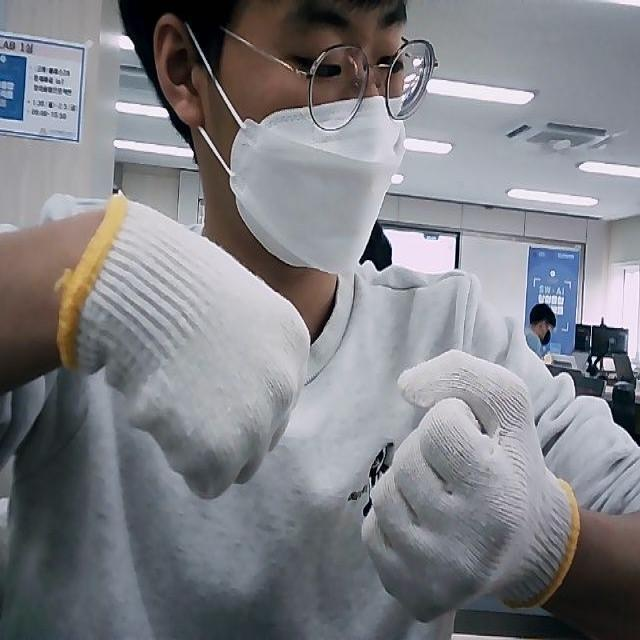Guantes: (58, 195, 310, 502), (358, 348, 578, 621)
